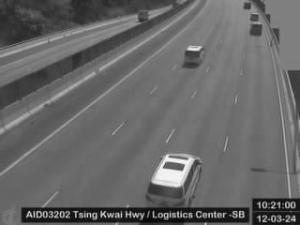vehicle: (146, 151, 202, 209), (183, 45, 207, 67), (248, 22, 262, 36), (138, 10, 148, 22), (243, 2, 251, 10), (250, 13, 258, 21)
